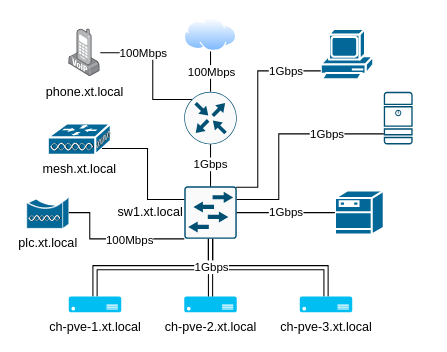
Some shapes in this 447 by 352 pixel diagram are drawn without their labels. The centre of each missing label's shape, as x and y in pixels:
"nas.xt.local" goes at (x=358, y=212).
"pc.xt.local" goes at (x=346, y=54).
"pve.xt.local" goes at (x=397, y=117).
"rtr.xt.local" goes at (x=210, y=117).
